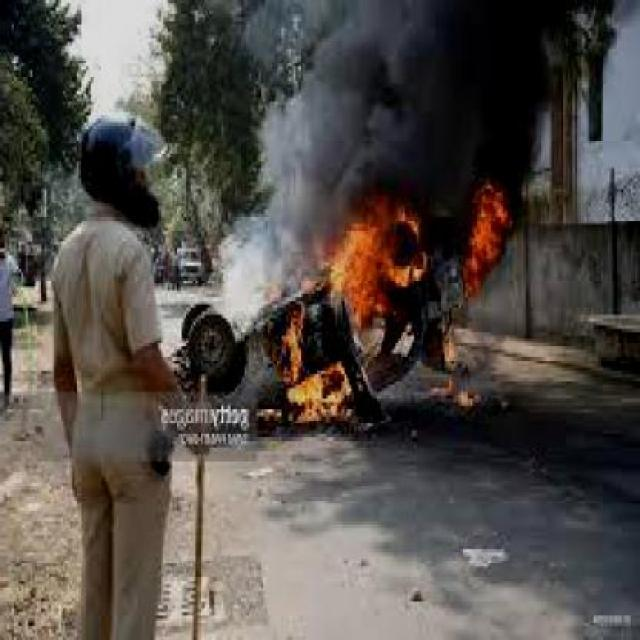Fire: (255, 162, 517, 430)
Smoke: (277, 0, 628, 182), (205, 153, 286, 324)
